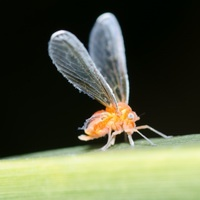insect: (48, 13, 170, 149)
